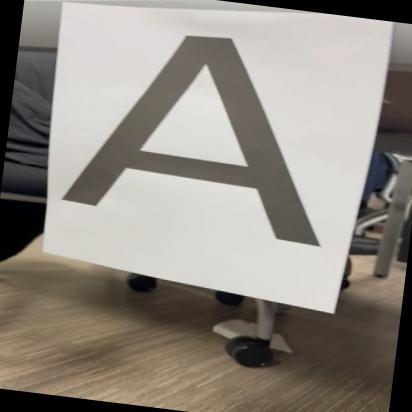seat: (46, 14, 350, 251)
